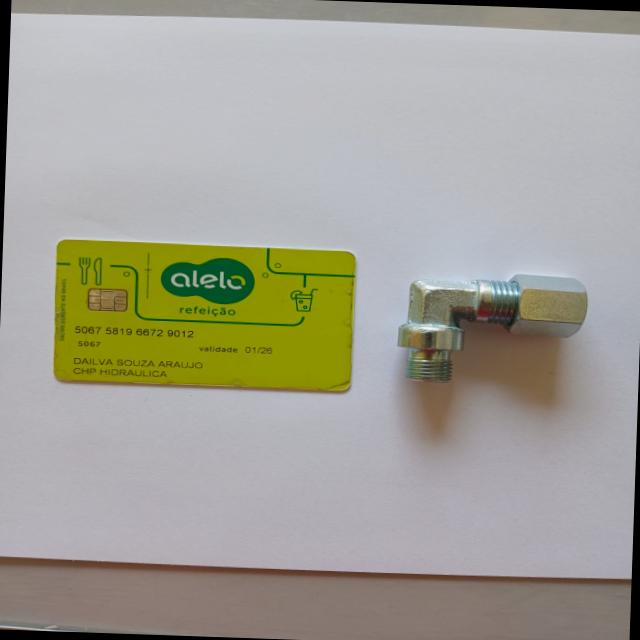cartao: (54, 238, 356, 392)
rosca_externa: (397, 269, 591, 386)
